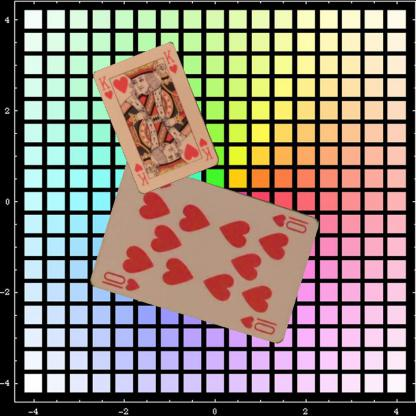10h: (101, 268, 142, 292), (270, 211, 310, 234)
Kh: (96, 73, 114, 101), (197, 136, 214, 162)
